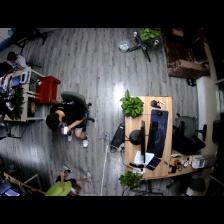normal: (44, 101, 90, 146), (46, 167, 93, 196), (3, 51, 29, 72)
